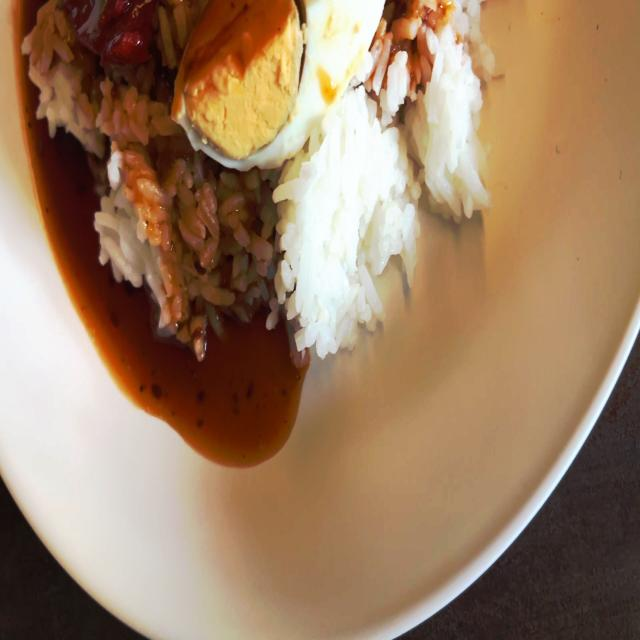boiled_egg: (162, 0, 384, 152)
red_pork: (58, 0, 157, 56)
red_pork_and_crispy_pork: (18, 0, 489, 362)
rice: (298, 132, 429, 322), (380, 0, 490, 218), (101, 89, 190, 308), (28, 19, 108, 152)
